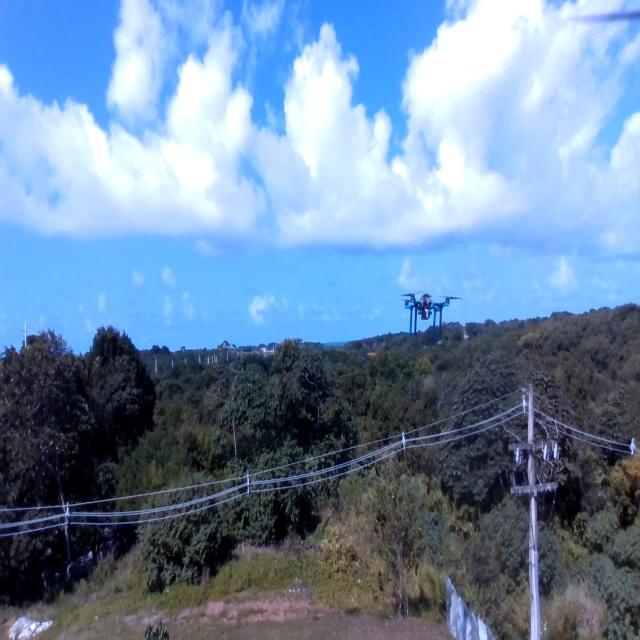-uav-: (392, 282, 466, 351)
